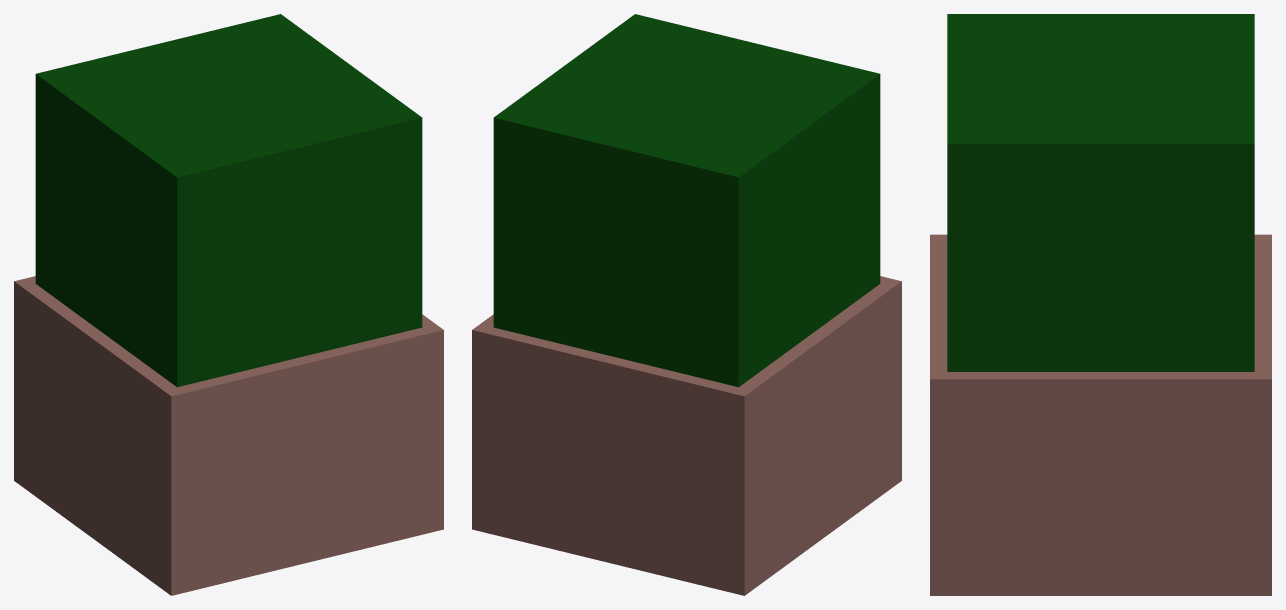
The model's file is adorn plant9.FBX.
3 views of the same model, side by side, from view 1: azimuth 30°, elevation 25°; view 2: azimuth 150°, elevation 25°; view 3: azimuth 270°, elevation 25° (orthographic). The views are drawn at different scales.
Parts seen in each view (by area): view 1: adorn plant9; view 2: adorn plant9; view 3: adorn plant9.
Part boxes in pixels (left/top/right/bottom): adorn plant9: left=14, top=14, right=443, bottom=595; adorn plant9: left=472, top=14, right=901, bottom=595; adorn plant9: left=930, top=14, right=1271, bottom=595.
Bounding box in the file's own units: 1 × 1.44 × 1.
